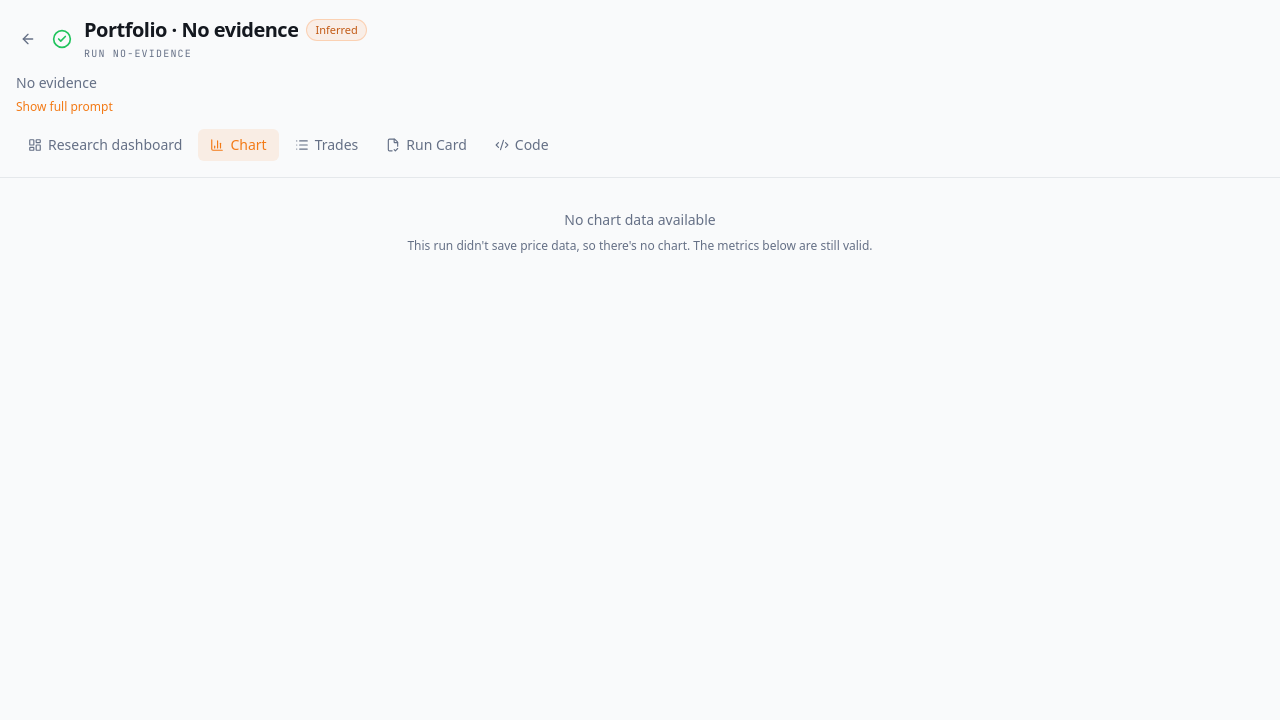
Test: RunDetail page › explicitly reports absent evidence for v0 cards
Click the tab "Run Card": (427, 145) [374,129,479,161]
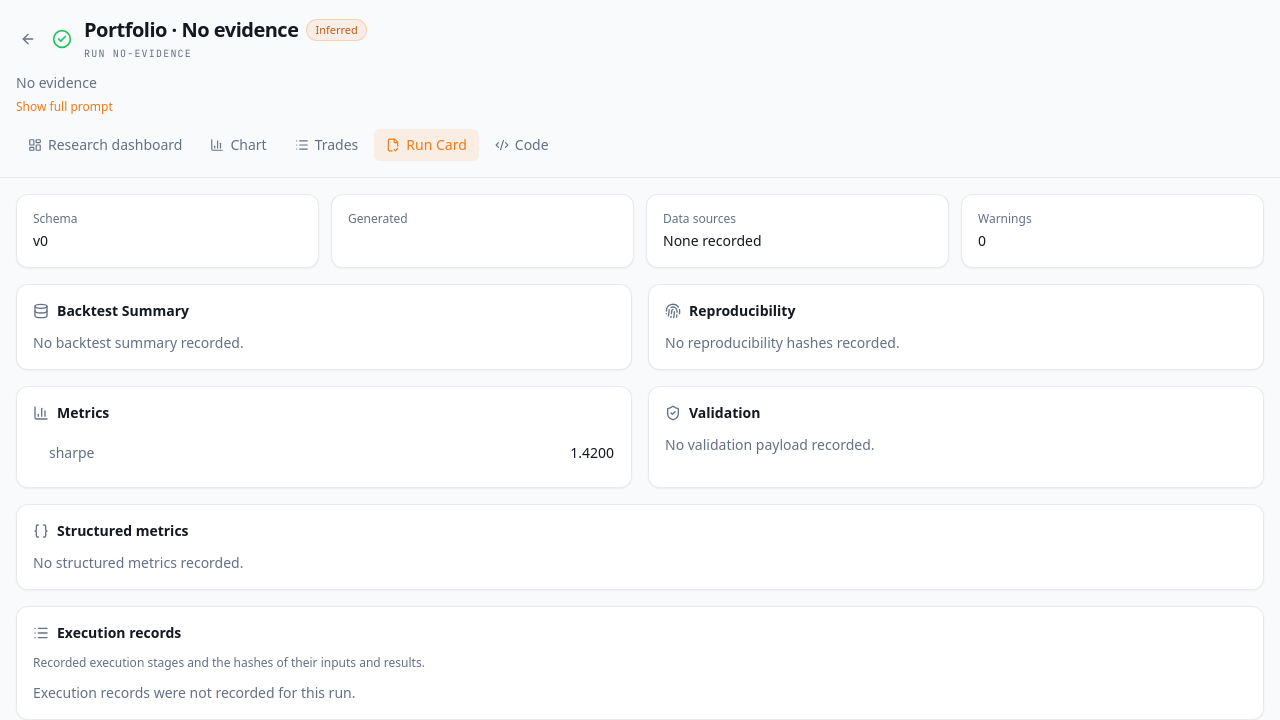
Expected: the text "Execution records were not recorded for this run." is shown, [33,683,356,702]
Expected: the text "1.4200" is shown, [177,435,615,471]
